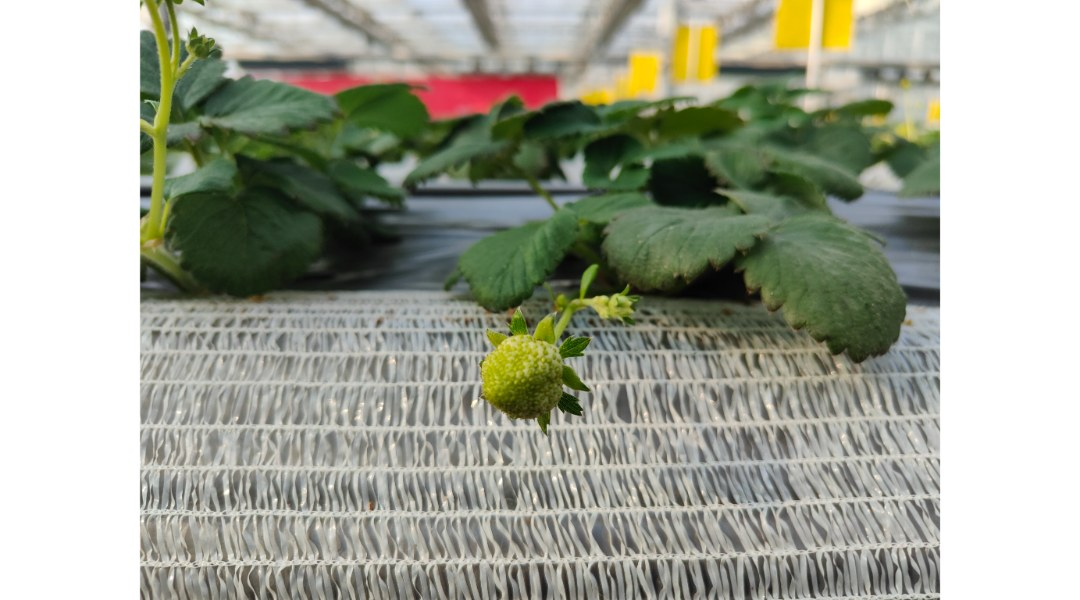berry: (466, 330, 581, 439), (143, 90, 180, 243)
